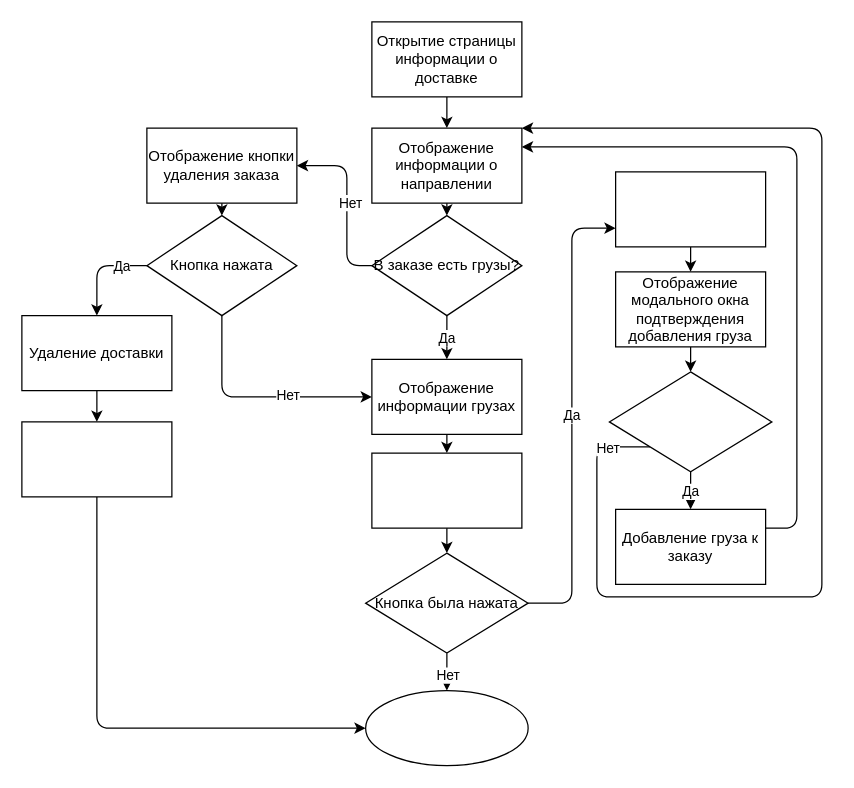
Image size: 854x788. Some labels were removed from this diagram. The shapes that lost their labels are listed below. From the top down, each one's box as (x1, y1, x2, y2) in pixels, then its label:
(614, 171, 766, 247): Запуск сканера QR кодов
(608, 371, 772, 472): Груз подтвержден
(21, 421, 172, 497): Переход на страницу списка доставок
(371, 452, 522, 528): Нажатие кнопки доставки грузов
(364, 689, 528, 766): Конец
